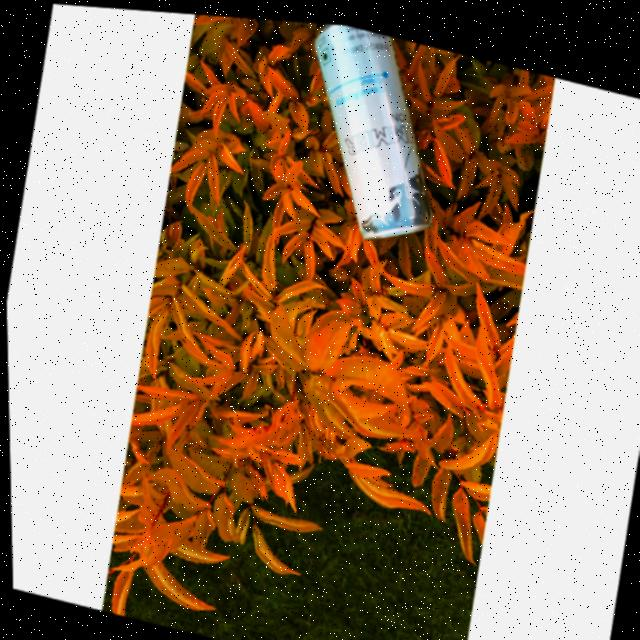Redbull Summer Edition: (267, 16, 461, 249)
